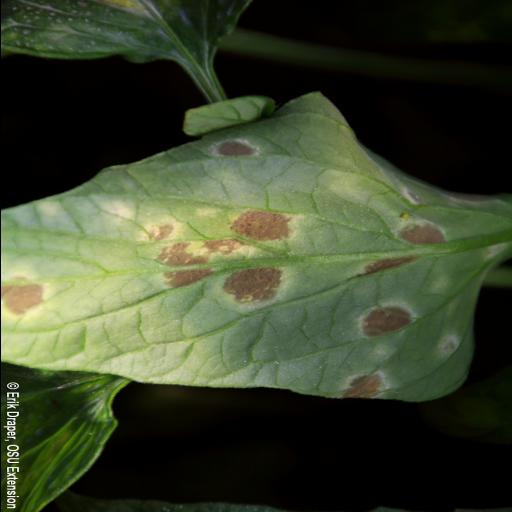disease_tomato: (0, 93, 491, 402)
